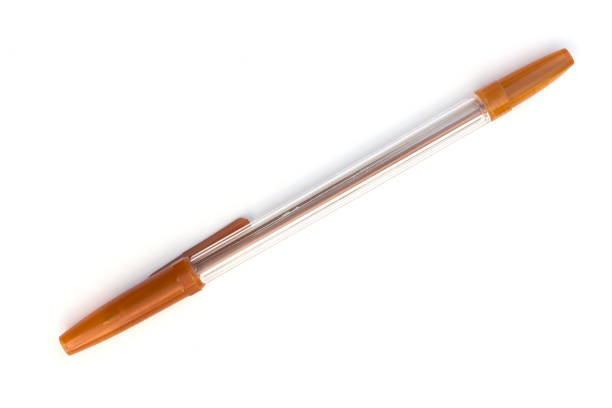pen: (52, 43, 577, 366)
